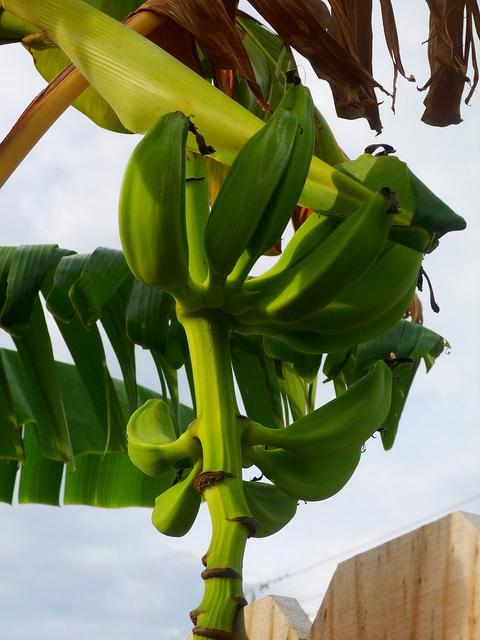banana: (218, 186, 400, 324), (227, 68, 315, 296), (242, 153, 374, 292), (238, 240, 424, 334), (118, 110, 204, 312), (204, 108, 299, 284), (226, 269, 420, 355), (242, 360, 392, 462), (241, 441, 365, 502), (126, 398, 203, 477), (152, 452, 204, 538), (243, 480, 300, 538)
